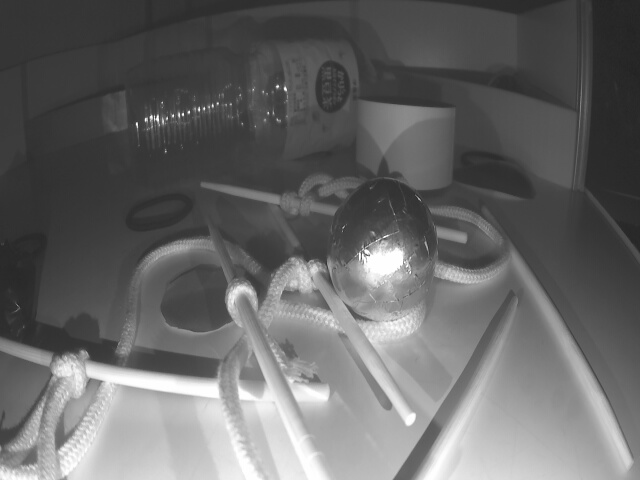Live: (326, 175, 436, 323)
Point: (387, 78, 578, 189), (31, 83, 131, 157)
